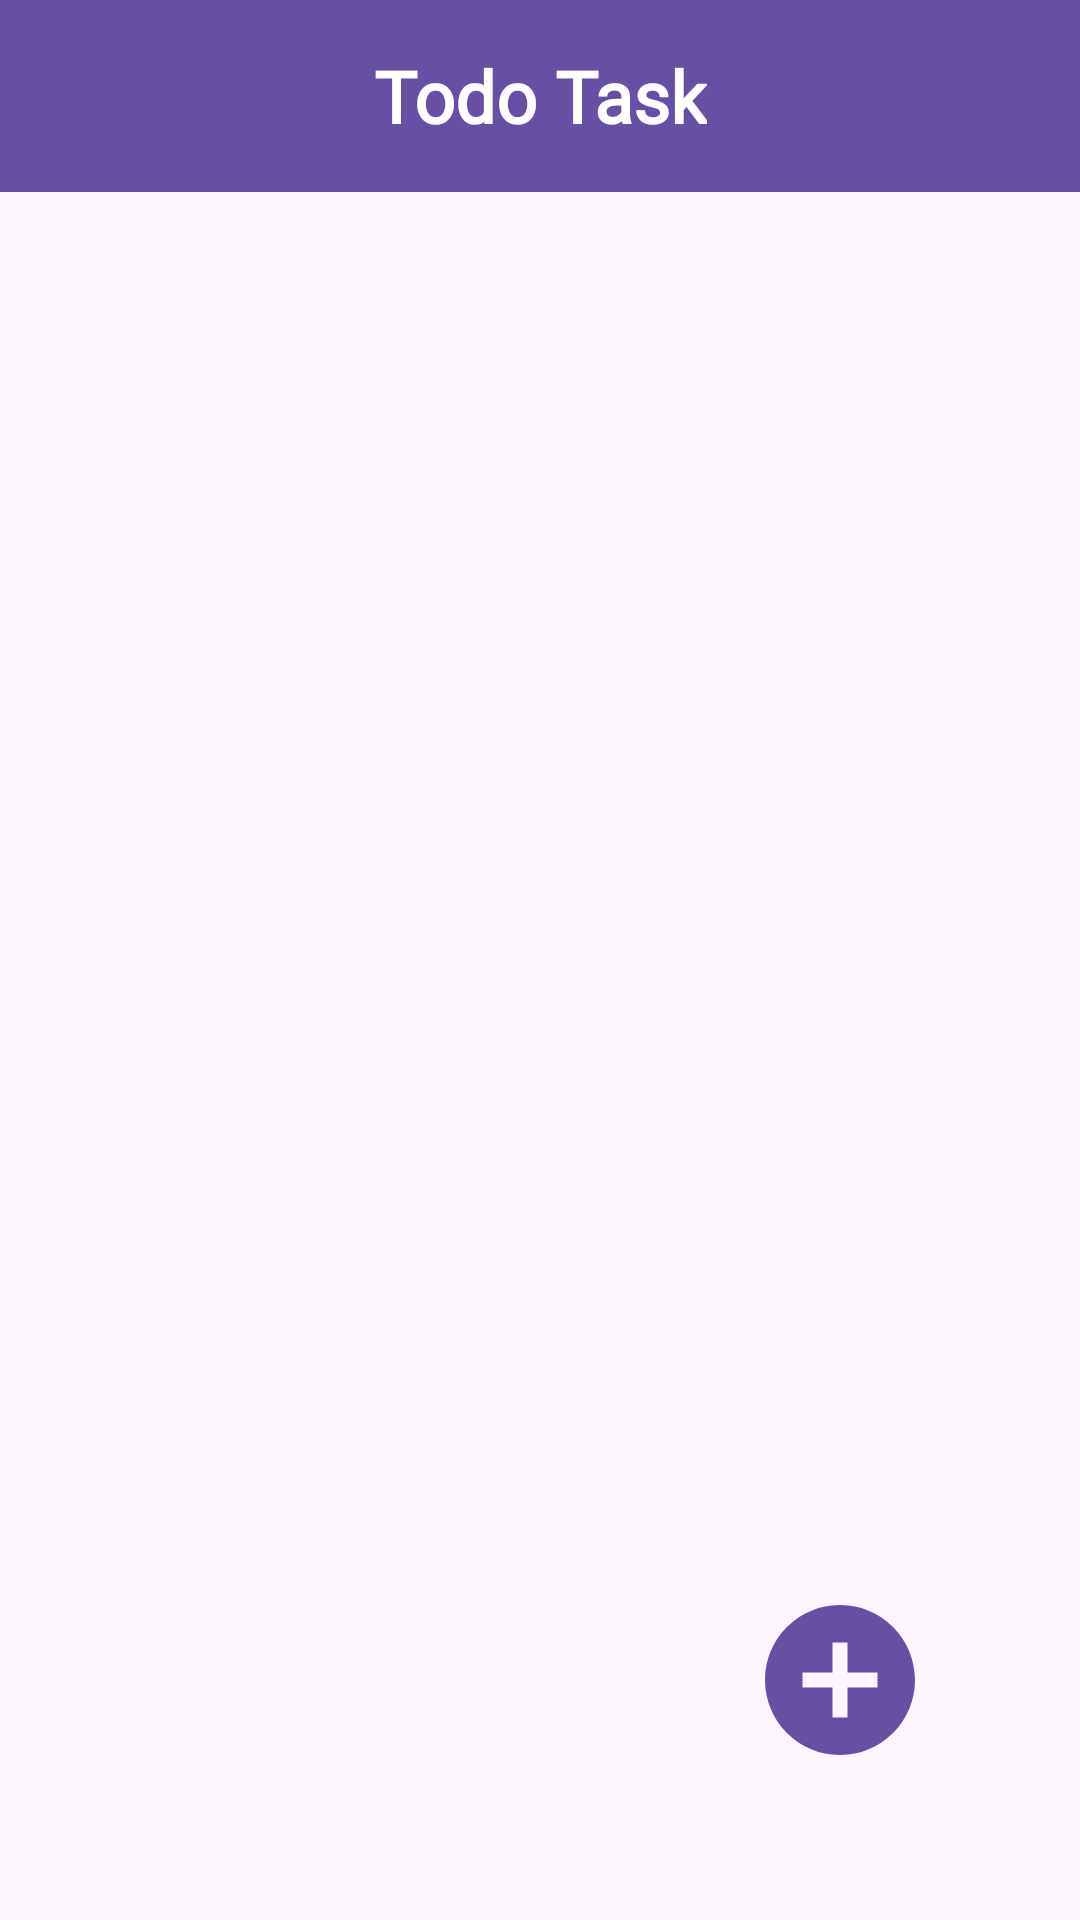

Named icons in this screenshot (1080w x 1920h) and their centers, (x=x, y=y):
add: (x=840, y=1680)
